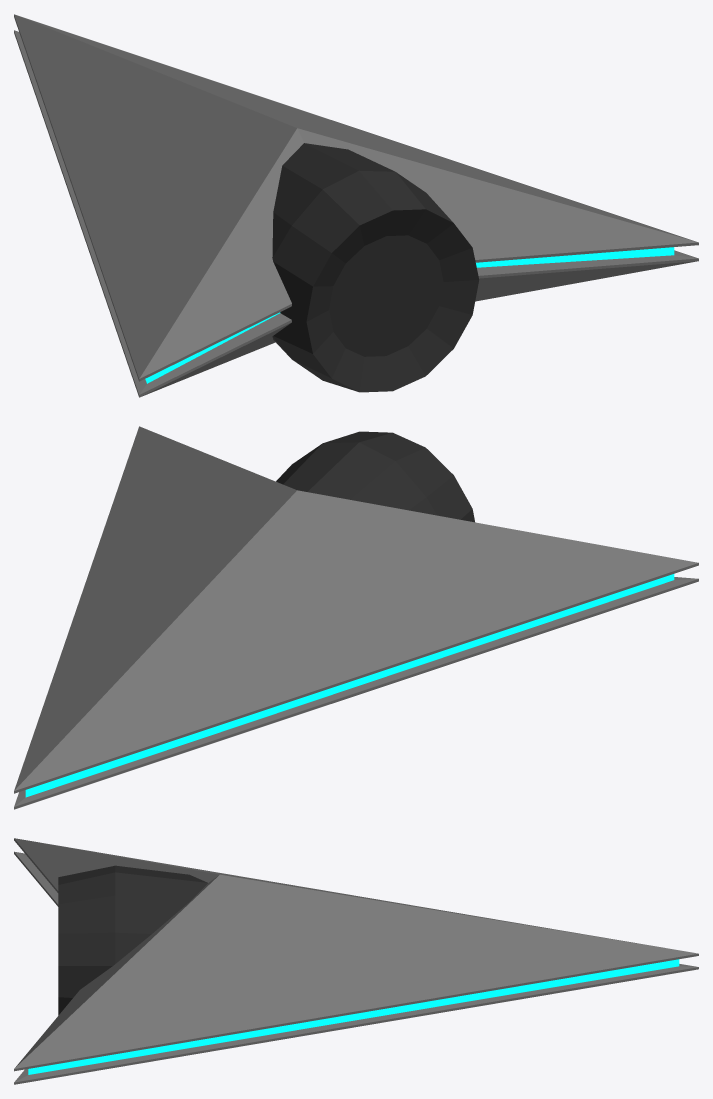
File: ship_frame.glb
3 views of the same model, one above another, from view 1: azimuth 30°, elevation 25°; view 2: azimuth 150°, elevation 25°; view 3: azimuth 270°, elevation 25° (orthographic). The views are drawn at different scales.
Visible parts, largest first — view 1: Ship_Frame; view 2: Ship_Frame; view 3: Ship_Frame.
Part boxes in pixels (<box>): Ship_Frame: <box>14,14,698,397</box>; Ship_Frame: <box>14,426,698,809</box>; Ship_Frame: <box>14,838,698,1084</box>.
Size of the model in its own units: 1.18 by 0.4262 by 1.48.
